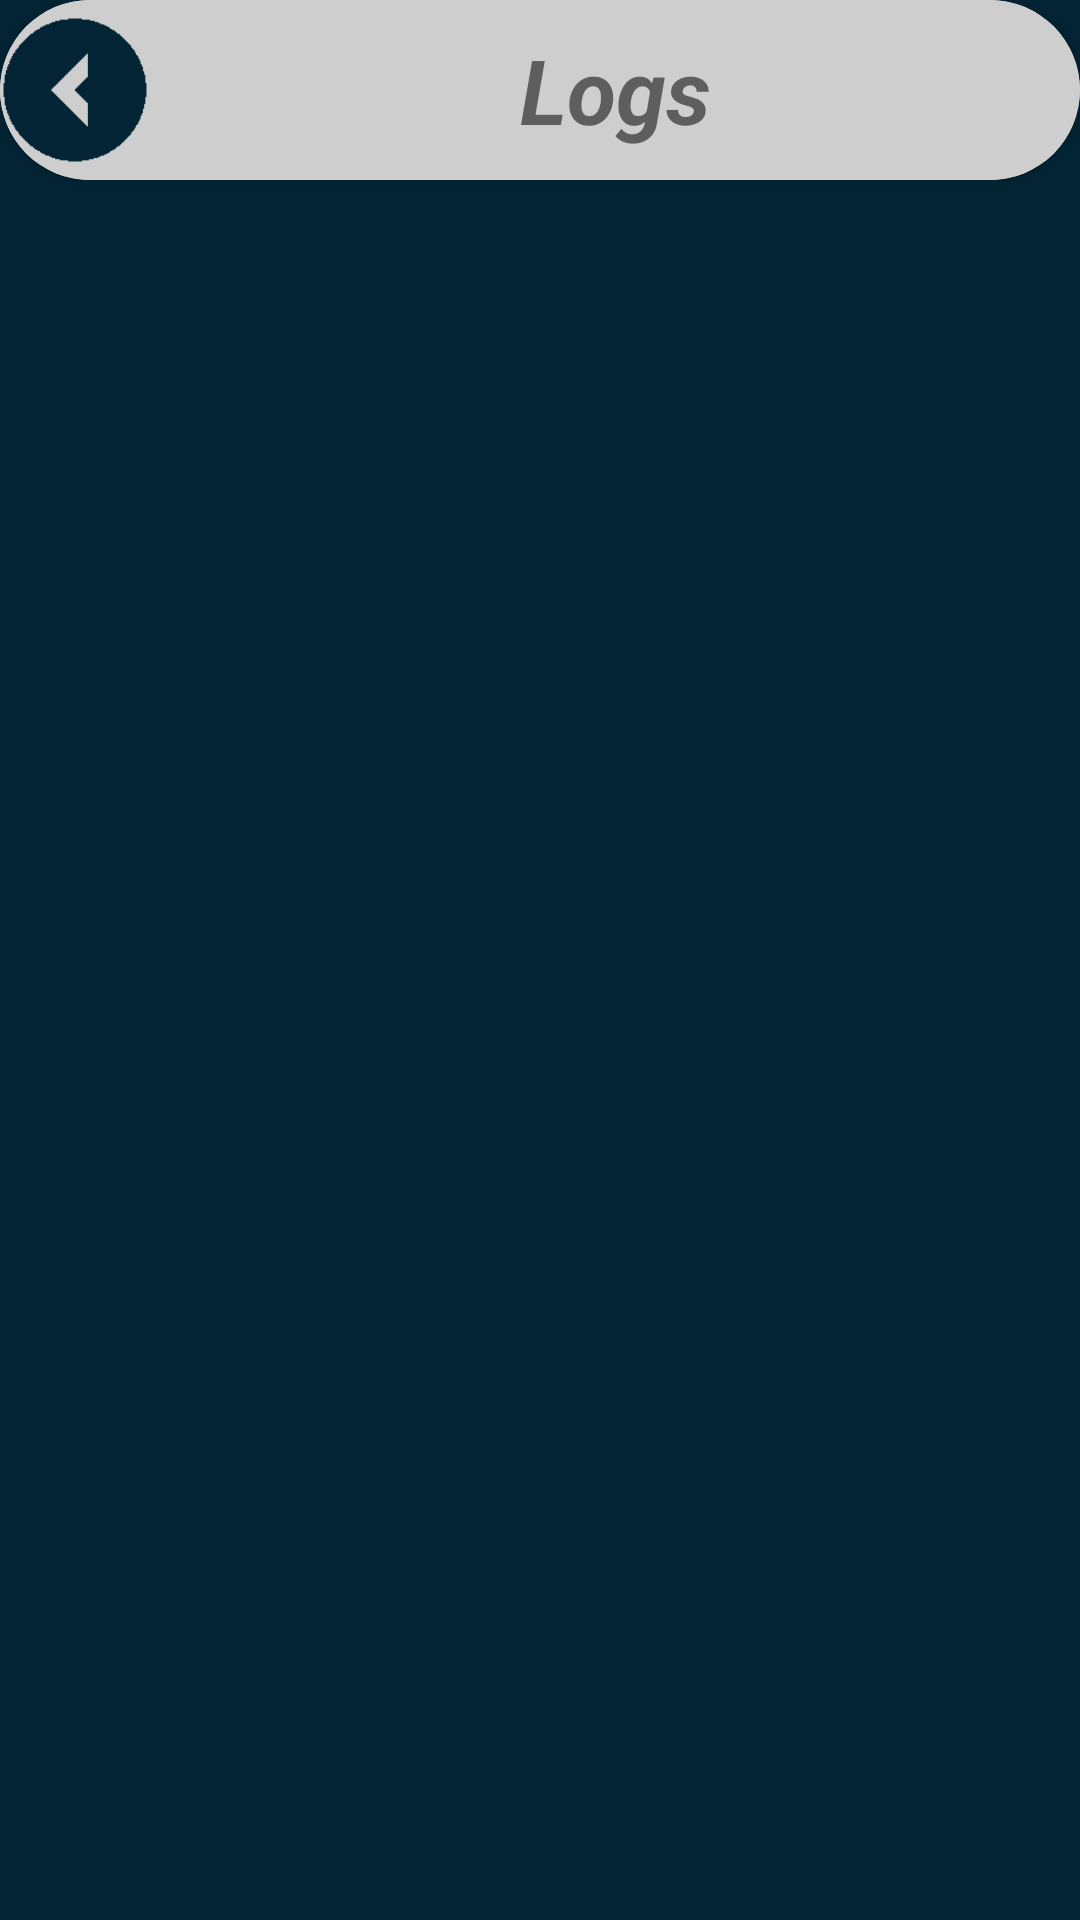

Icons on this 1080px x 1920px Android screen, each with the point to tap as point (x, y):
back: point (75, 90)
